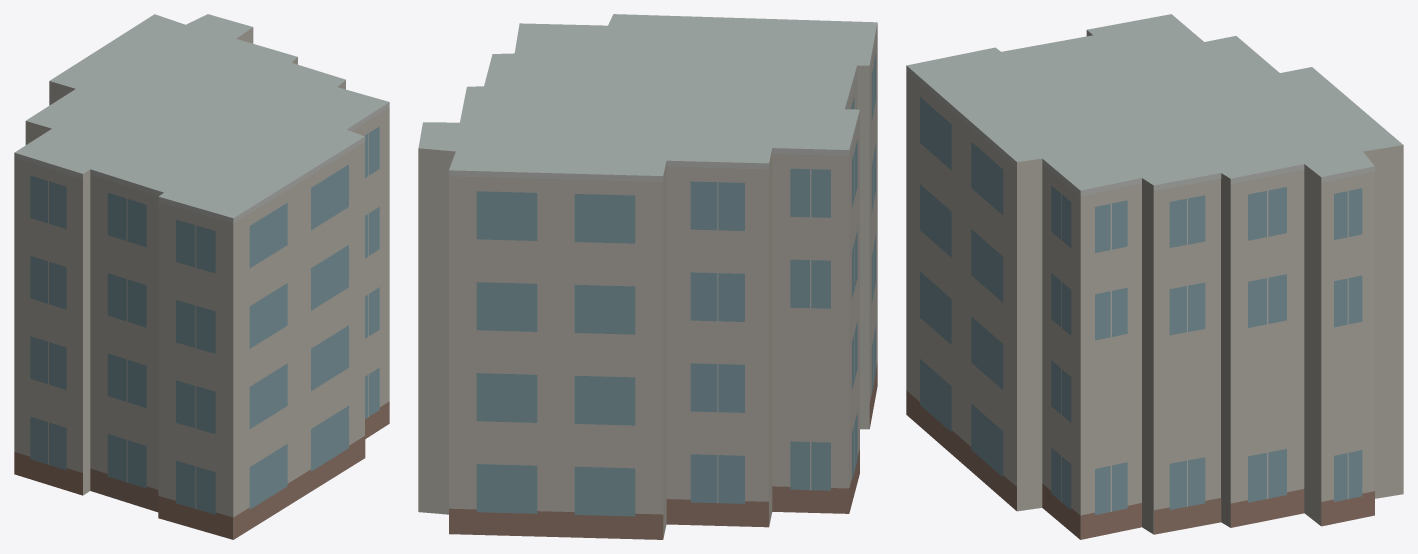
The model's file is survey-upis-32506314.glb.
The picture shows the model from 3 angles, left to right: view 1: azimuth 30°, elevation 25°; view 2: azimuth 150°, elevation 25°; view 3: azimuth 270°, elevation 25°; orthographic projection. The views are drawn at different scales.
Parts seen in each view (by area): view 1: survey-upis-32506314.tmp; view 2: survey-upis-32506314.tmp; view 3: survey-upis-32506314.tmp.
Boxes of the visible parts, <box> form: survey-upis-32506314.tmp: <box>14,14,389,539</box>; survey-upis-32506314.tmp: <box>418,14,877,539</box>; survey-upis-32506314.tmp: <box>906,14,1403,539</box>.
Size of the model in its own units: 16.61 by 15.3 by 19.75.
